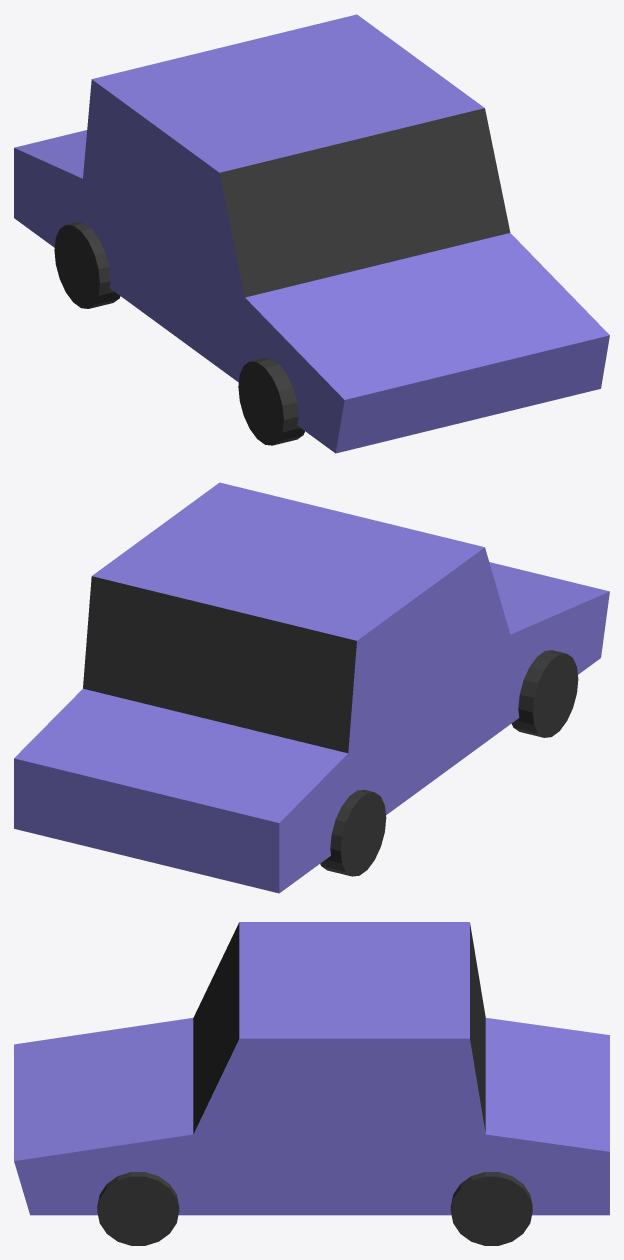
The model's file is Environment_BlueCar.fbx.
3 renders of one model, top to bottom at view 1: azimuth 30°, elevation 25°; view 2: azimuth 150°, elevation 25°; view 3: azimuth 270°, elevation 25°, orthographic. The views are drawn at different scales.
Visible parts, largest first — view 1: BluecCar; view 2: BluecCar; view 3: BluecCar.
Part boxes in pixels (x1=…): BluecCar: x1=14, y1=14, x2=609, y2=453; BluecCar: x1=14, y1=482, x2=609, y2=893; BluecCar: x1=14, y1=922, x2=609, y2=1245.
Bounding box in the file's own units: 2.44 × 1.82 × 4.81.
